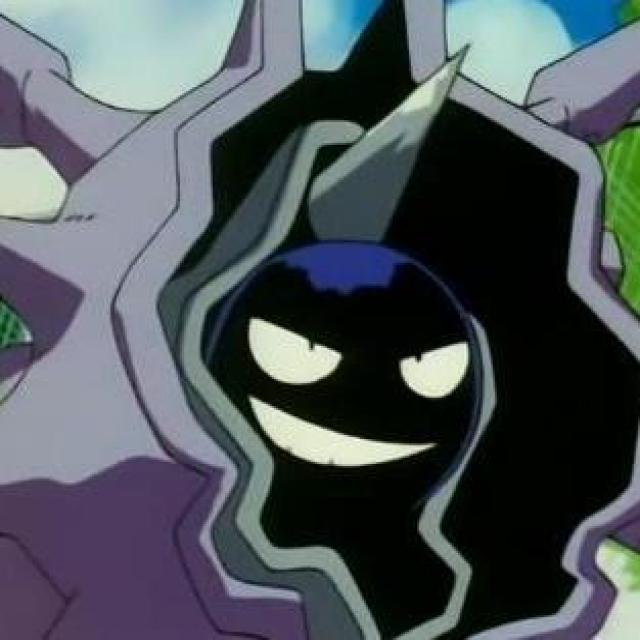Cloyster: (6, 2, 637, 640)
